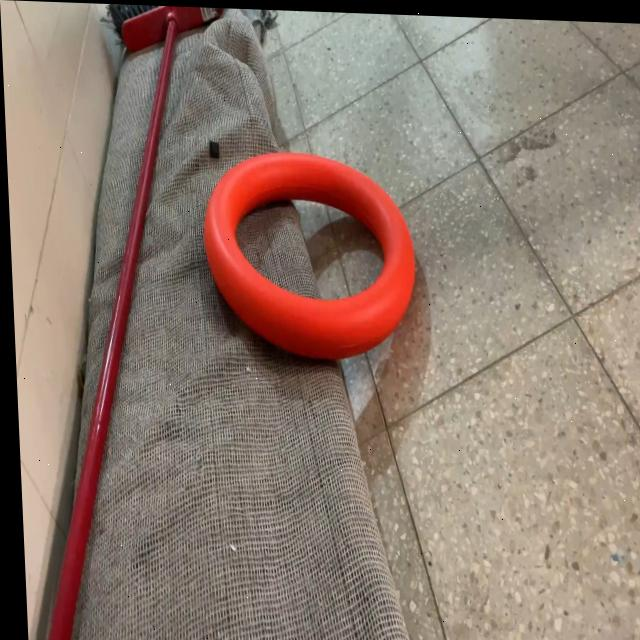note: (197, 144, 419, 364)
